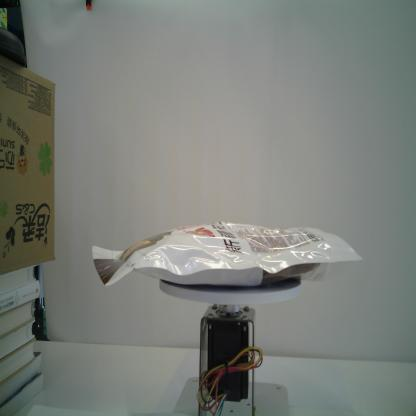Dried Food: (90, 219, 364, 288)
